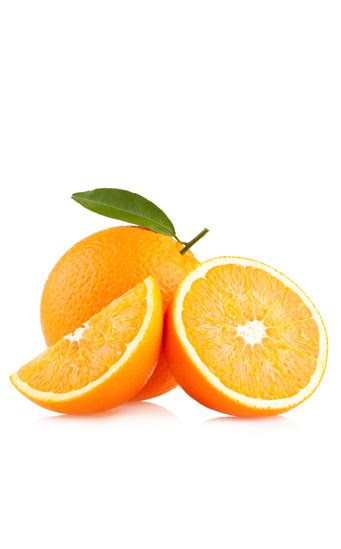orange: (33, 224, 202, 402)
